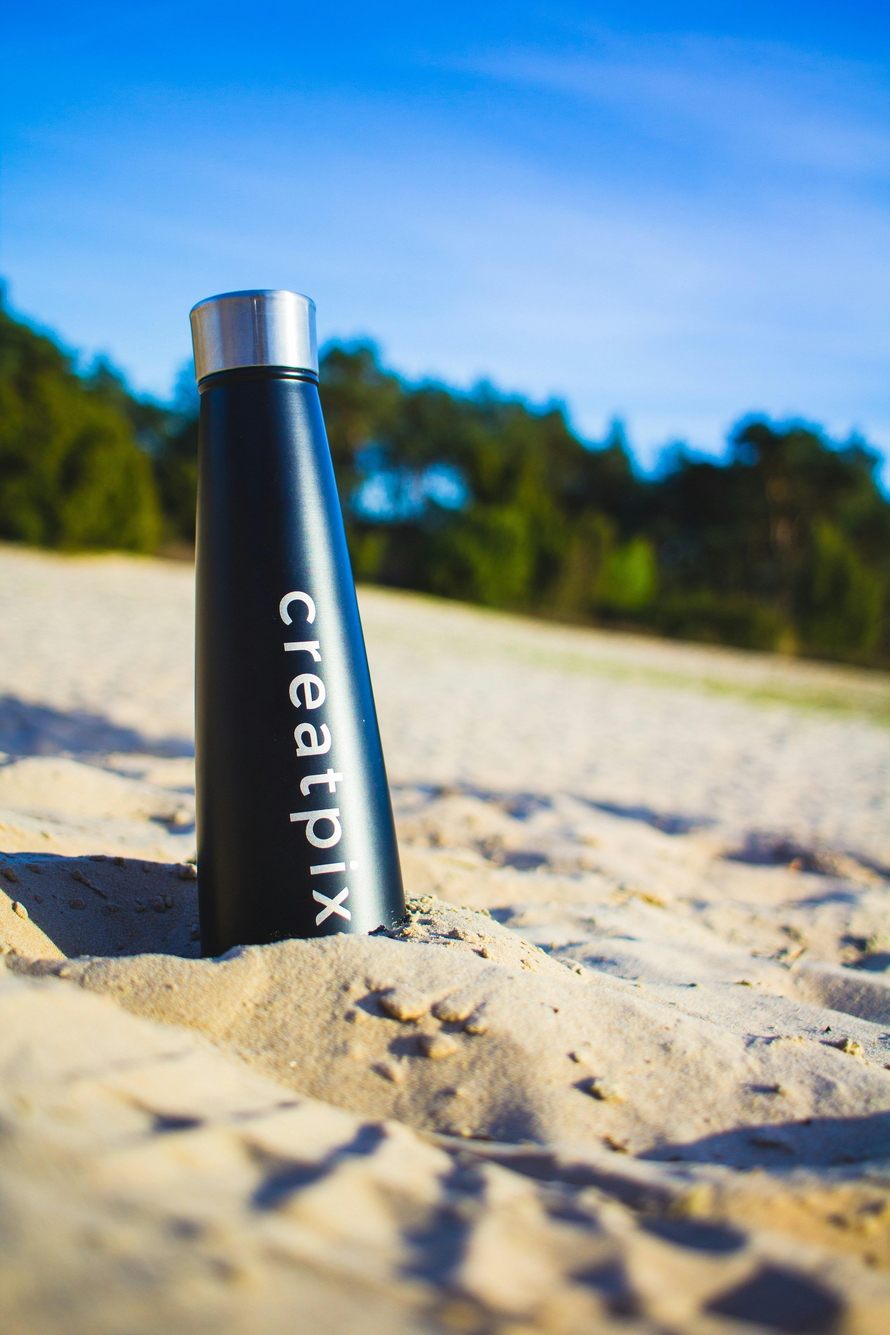Bottle-Detection: (139, 247, 453, 984)
